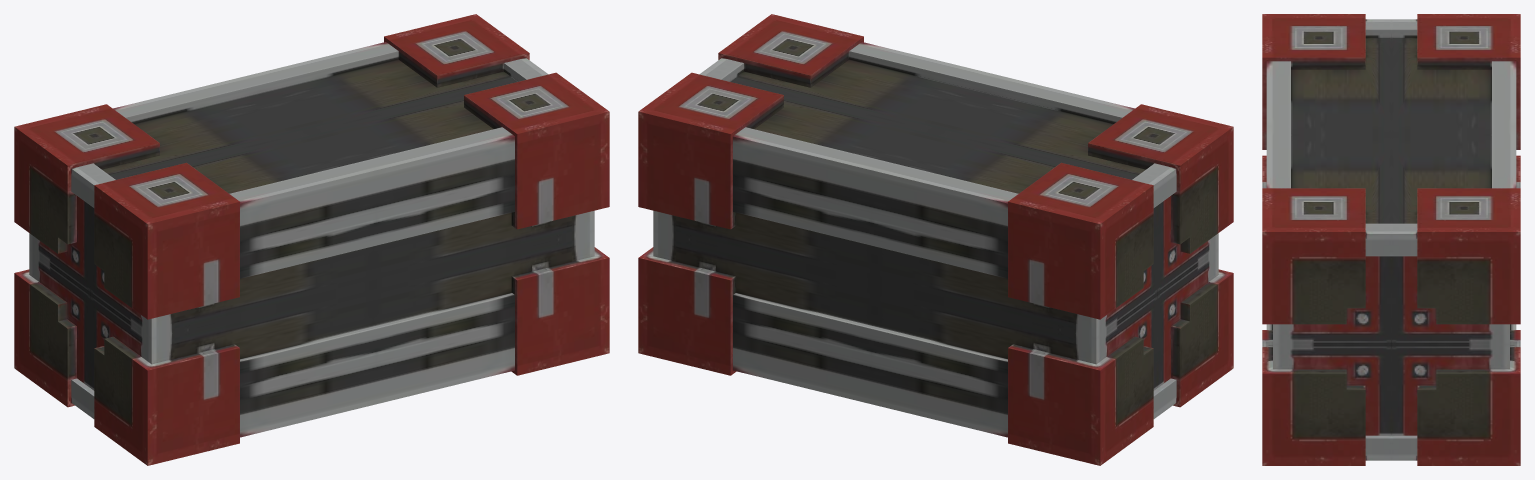
File: Part - block2-BZsW3wN5.glb
3 views of the same model, side by side, from view 1: azimuth 30°, elevation 25°; view 2: azimuth 150°, elevation 25°; view 3: azimuth 270°, elevation 25° (orthographic). The views are drawn at different scales.
Parts seen in each view (by area): view 1: block2; view 2: block2; view 3: block2.
Part boxes in pixels (left/top/right/bottom): block2: left=14, top=14, right=609, bottom=465; block2: left=638, top=14, right=1233, bottom=465; block2: left=1262, top=14, right=1520, bottom=465.
Size of the model in its own units: 2 by 1 by 1.
1 material, 1 textured.
